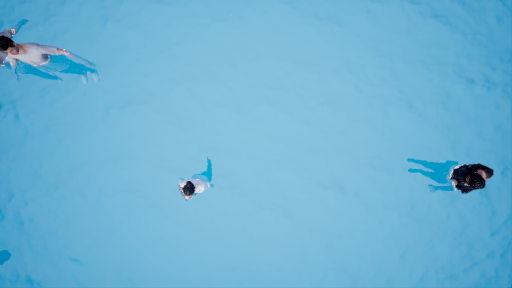person: (1, 24, 104, 87), (412, 154, 496, 198), (175, 160, 220, 202)
